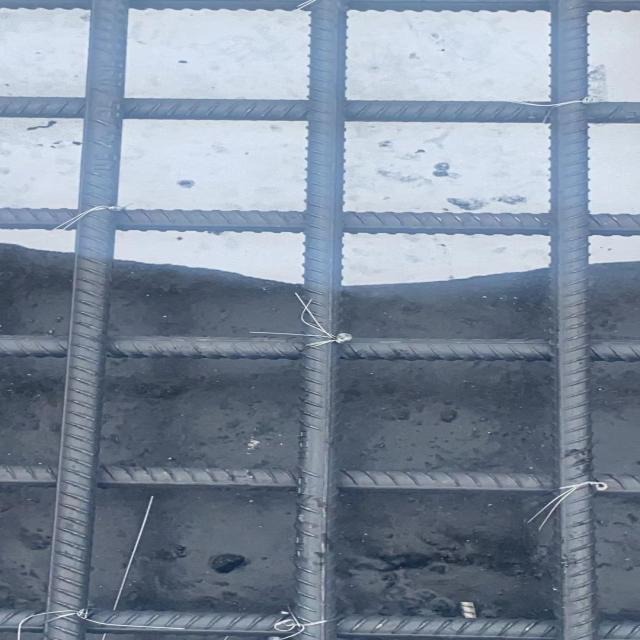ribbed bar: (39, 0, 133, 639), (288, 0, 351, 639), (546, 0, 598, 639), (0, 464, 639, 498), (0, 606, 639, 639), (0, 94, 639, 126), (0, 206, 639, 238), (0, 332, 639, 364), (0, 0, 639, 12)
